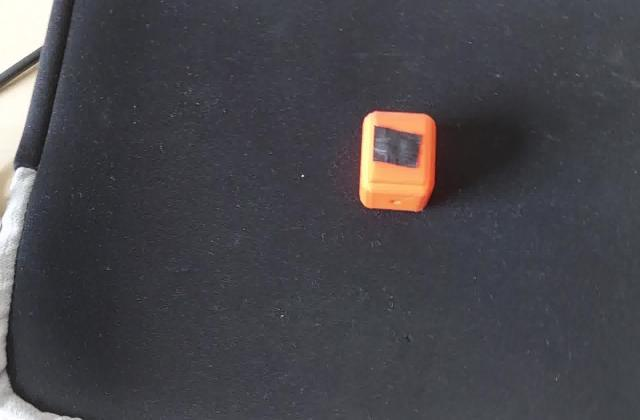black: (369, 126, 427, 171)
sticker: (351, 108, 440, 217)
